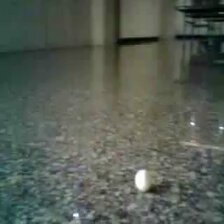w: (134, 169, 153, 192)
